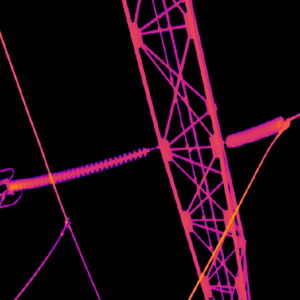insulator: (7, 145, 150, 193), (226, 116, 284, 148)
